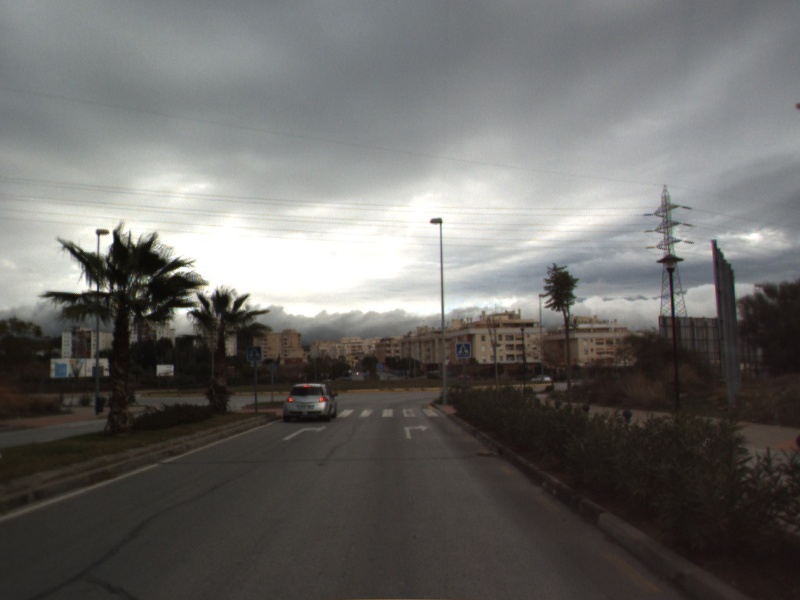RIGHT: (280, 423, 328, 442), (401, 422, 431, 441)
